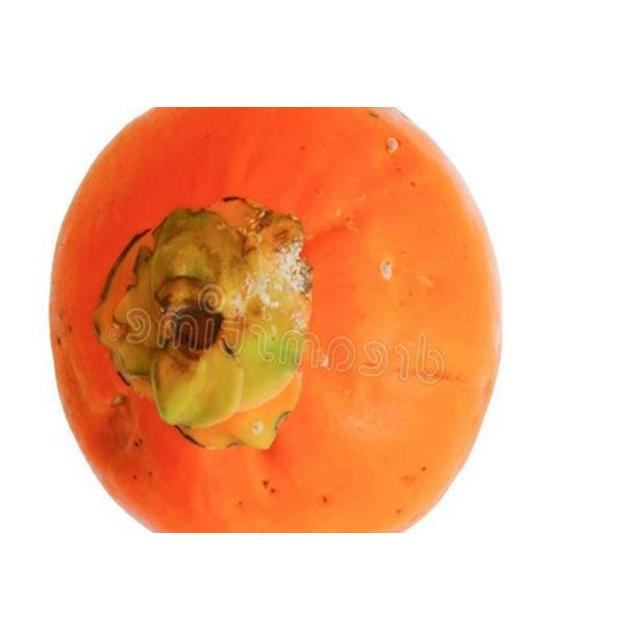good: (48, 107, 505, 533)
